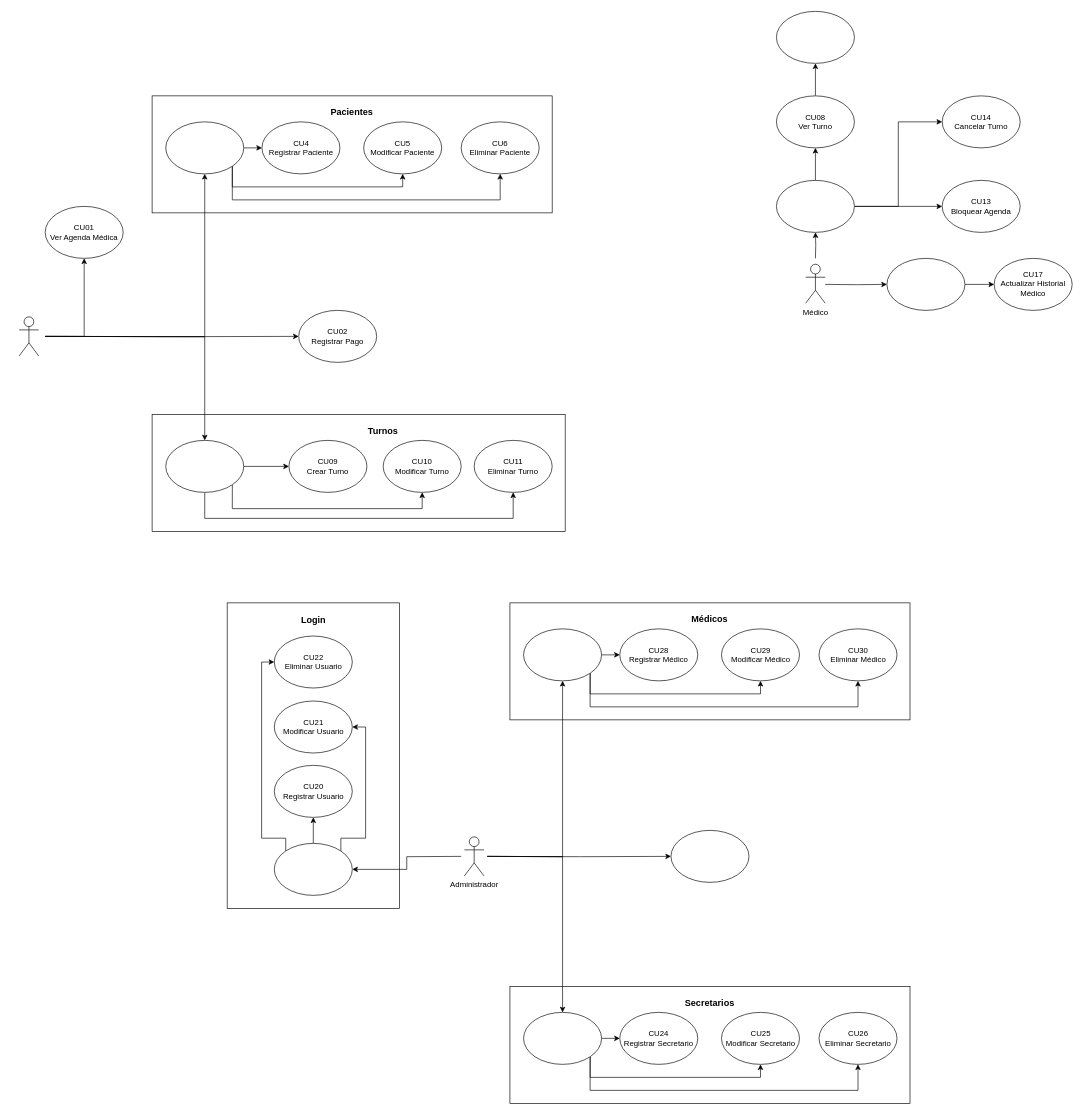
This 1084x1115 diagram has some shape labels left out. Each missing label, with the centre of its shape:
CU12 Acceder Agenda: [815,206]
CU15 Confirmar Asistencia del Paciente: [815,37]
CU16 Acceder Historial Médico: [925,284]
CU18 Crear Informe Mensual: [709,856]
CU19 Ver Usuarios: [313,869]
CU23 Ver Secretarios: [562,1038]
CU27 Ver Médicos: [562,654]
CU3 Ver Pacientes: [204,147]
CU7 Ver Turnos: [204,466]
Secretario: [29,336]
